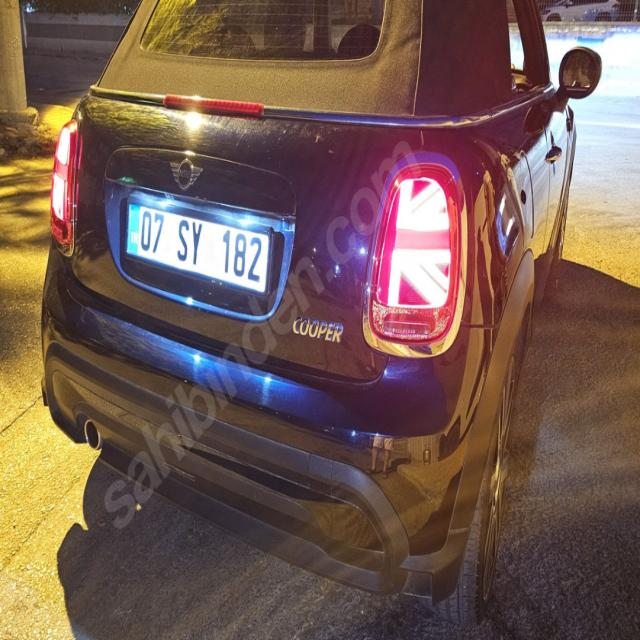mini: (168, 155, 205, 188)
